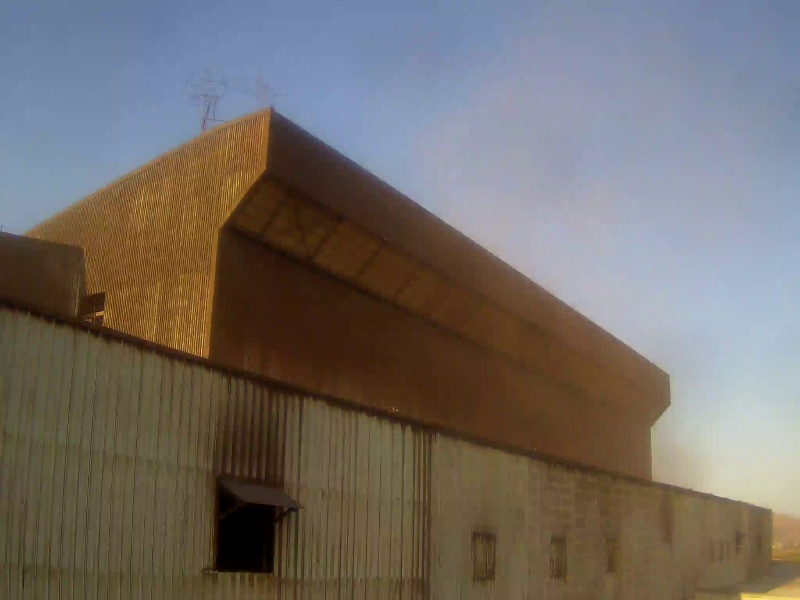bom: (94, 10, 303, 196)
ruim: (480, 71, 701, 476)
